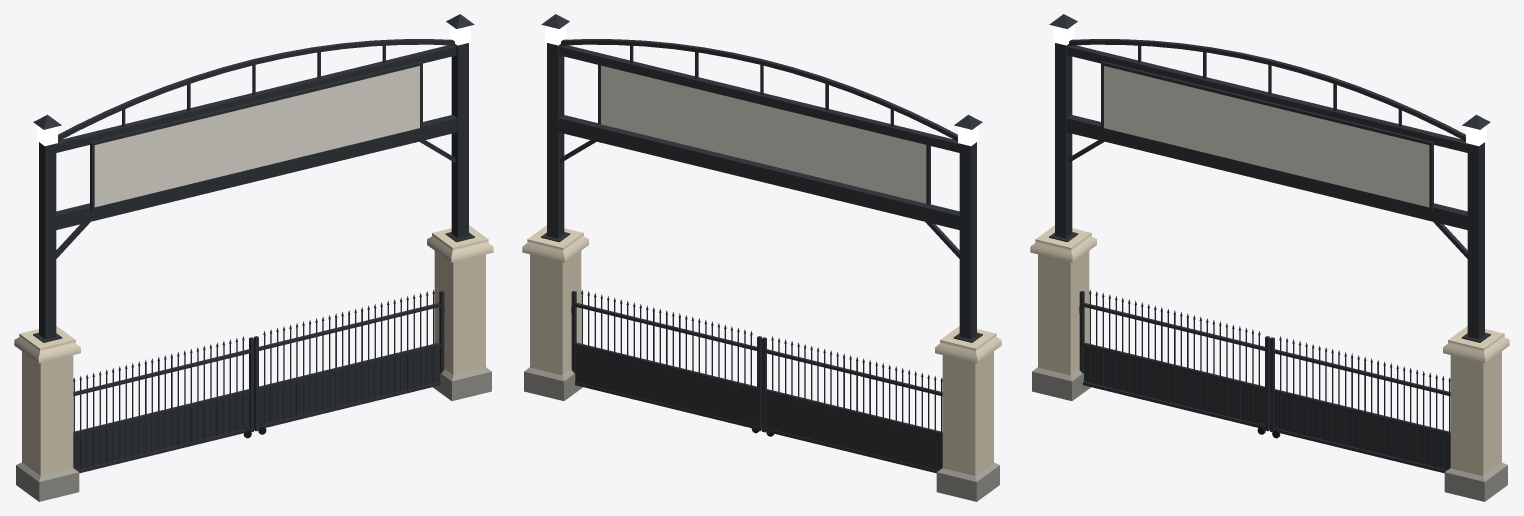
Rendered from gate.glb.
3 renders of one model, left to right at view 1: azimuth 30°, elevation 25°; view 2: azimuth 150°, elevation 25°; view 3: azimuth 330°, elevation 25°, orthographic.
Parts seen in each view (by area): view 1: gate, SignBoard, GateLeafR, GateLeafL; view 2: gate, SignBoard, GateLeafR, GateLeafL; view 3: gate, SignBoard, GateLeafL, GateLeafR.
Part boxes in pixels (bbox=[...]): gate: bbox=[14, 14, 493, 501]; SignBoard: bbox=[94, 66, 419, 207]; GateLeafR: bbox=[254, 290, 444, 434]; GateLeafL: bbox=[73, 336, 253, 473]; gate: bbox=[522, 14, 1001, 501]; SignBoard: bbox=[601, 65, 926, 203]; GateLeafR: bbox=[571, 290, 761, 433]; GateLeafL: bbox=[762, 336, 942, 473]; gate: bbox=[1030, 14, 1509, 501]; SignBoard: bbox=[1104, 66, 1429, 207]; GateLeafL: bbox=[1079, 290, 1269, 434]; GateLeafR: bbox=[1270, 336, 1450, 473].
Bounding box in the file's own units: 8.38 × 6.66 × 0.78.
